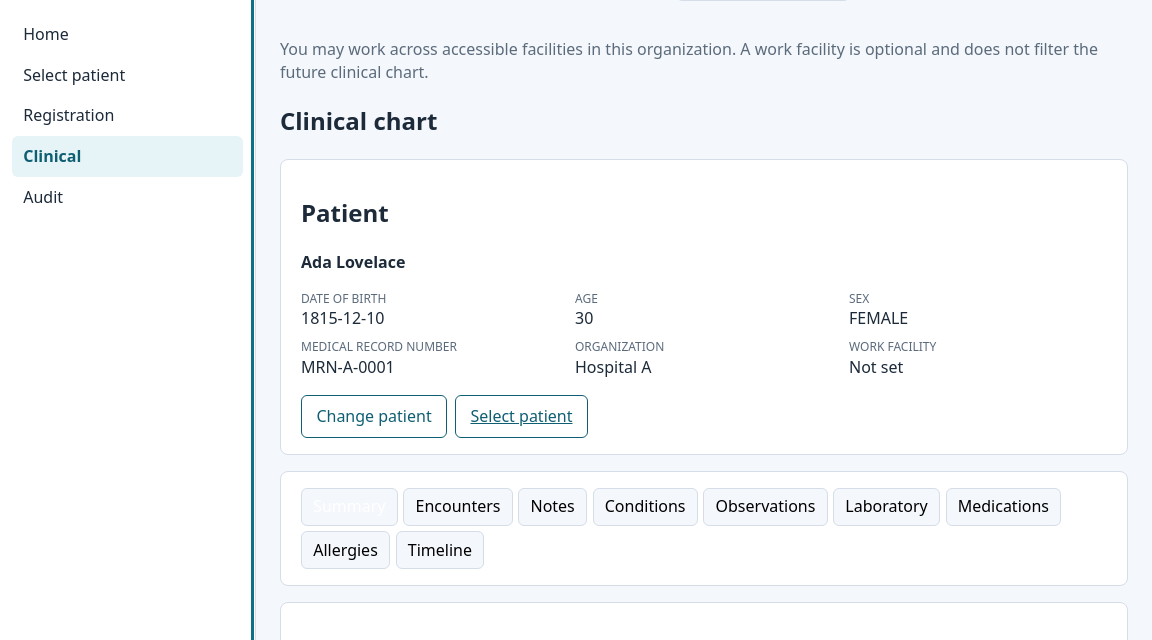
it: clinical chart timeline hardening › drops a late Patient A timeline page after switching to B
Click the button "Timeline".
click(440, 550)  # box [396,531,484,569]
(page scrolled)
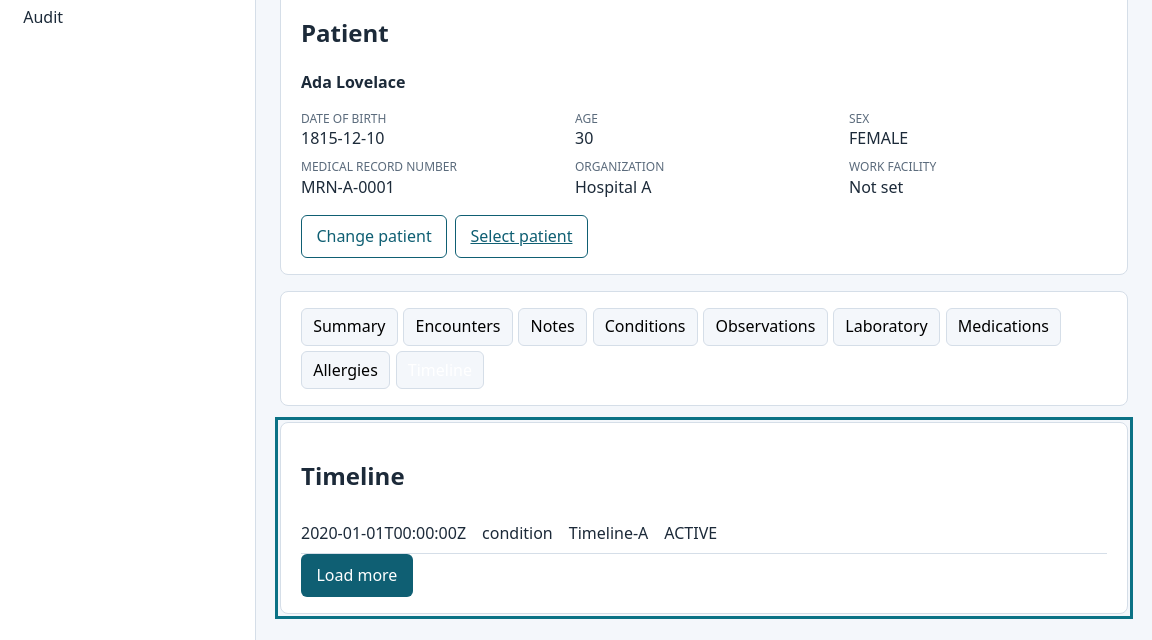
Click the button "Load more".
click(357, 575)  # box [301,554,413,597]
(page scrolled)
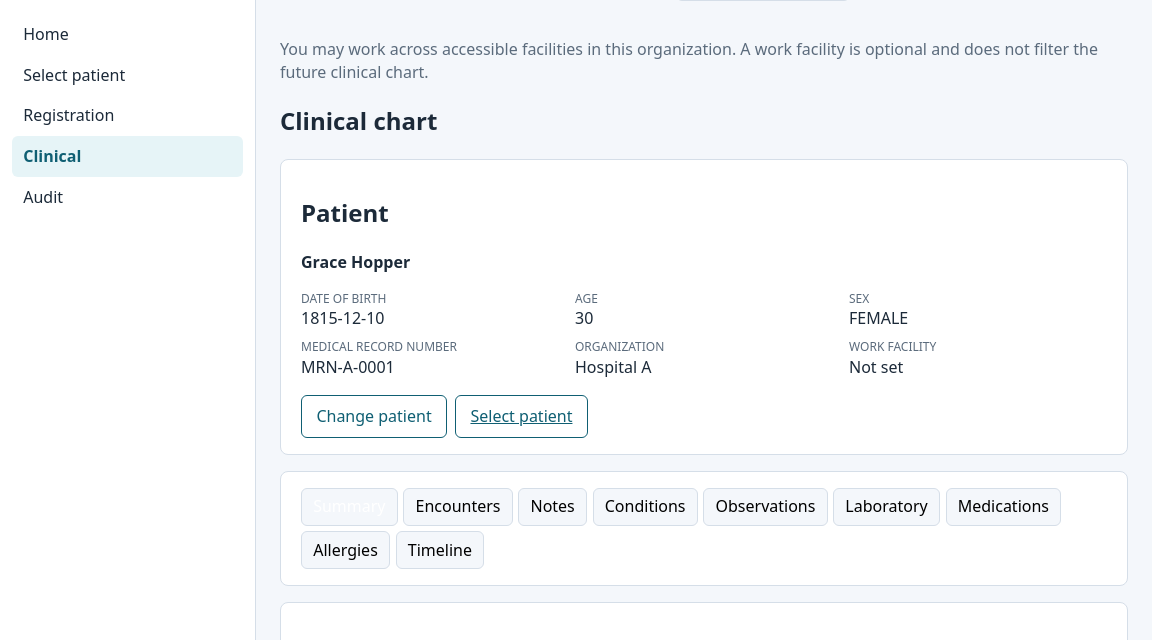
expect the text "Grace Hopper" is shown: met, box [301,251,410,273]
Click the button "Timeline".
click(440, 550)  # box [396,531,484,569]
(page scrolled)
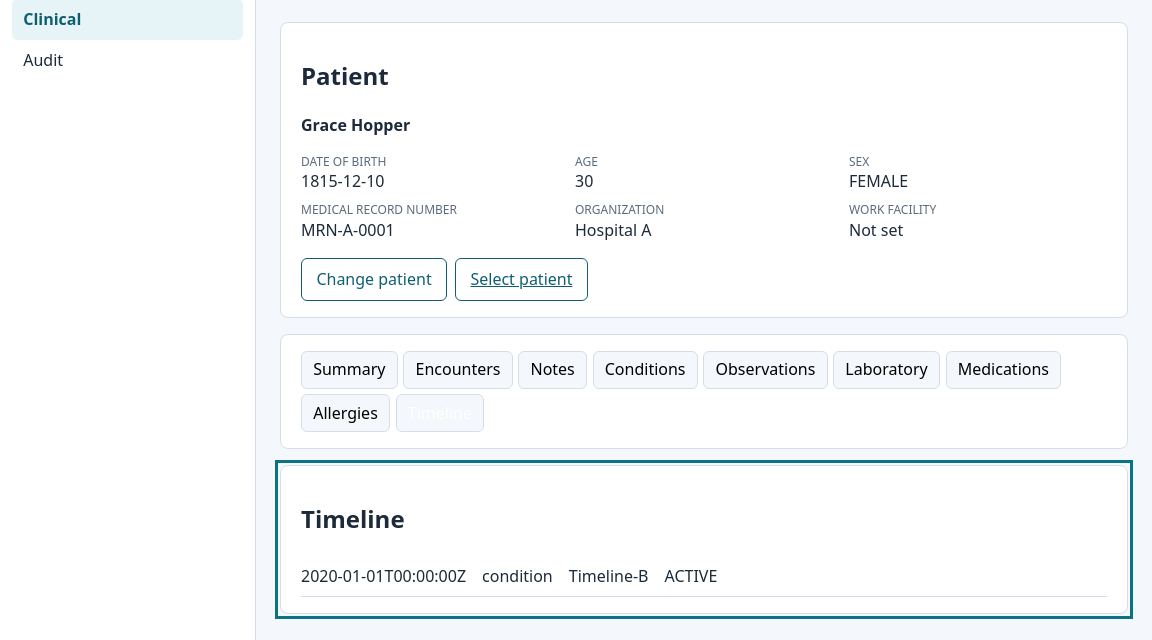
expect the text "Timeline-B" is shown: met, box [569,565,648,588]
